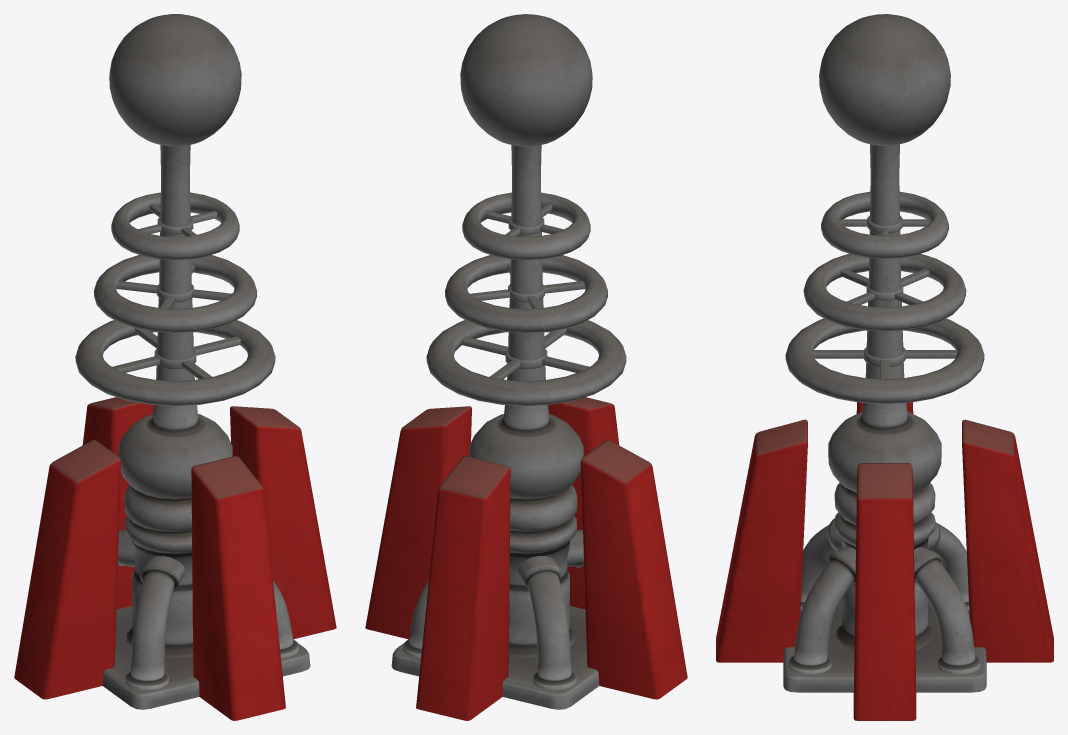
Rendered from Esa-wea.fbx.
3 views of the same model, side by side, from view 1: azimuth 30°, elevation 25°; view 2: azimuth 150°, elevation 25°; view 3: azimuth 270°, elevation 25° (orthographic).
Parts seen in each view (by area): view 1: posts_low, body_low, rings_low, ball_low, pipes_low, base_low, spokes_low, pipes2_low, centers_low; view 2: posts_low, body_low, rings_low, ball_low, pipes2_low, base_low, spokes_low, pipes_low, centers_low; view 3: posts_low, rings_low, body_low, ball_low, pipes2_low, pipes_low, base_low, spokes_low, centers_low.
Boxes of the visible parts, x1,y1,x2,y2 form: posts_low: (14,397,336,720); body_low: (118,145,232,657); rings_low: (75,192,275,406); ball_low: (109,14,241,146); pipes_low: (125,556,184,690); base_low: (102,606,310,709); spokes_low: (112,203,240,379); pipes2_low: (117,530,298,658); centers_low: (154,216,196,369); posts_low: (365,397,687,720); body_low: (469,145,583,658); rings_low: (426,192,626,406); ball_low: (460,14,592,146); pipes2_low: (517,556,576,689); base_low: (391,606,599,709); spokes_low: (461,204,589,379); pipes_low: (403,529,583,657); centers_low: (505,216,547,369); posts_low: (716,402,1053,720); rings_low: (785,191,984,404); body_low: (828,144,941,649); ball_low: (819,14,950,145); pipes2_low: (788,521,969,674); pipes_low: (800,518,980,674); base_low: (783,600,986,692); spokes_low: (812,219,957,378); centers_low: (864,215,905,366).
Bounding box in the file's own units: 0.9072 × 1.87 × 0.9072.
Materials: 1 (1 with a texture image).
